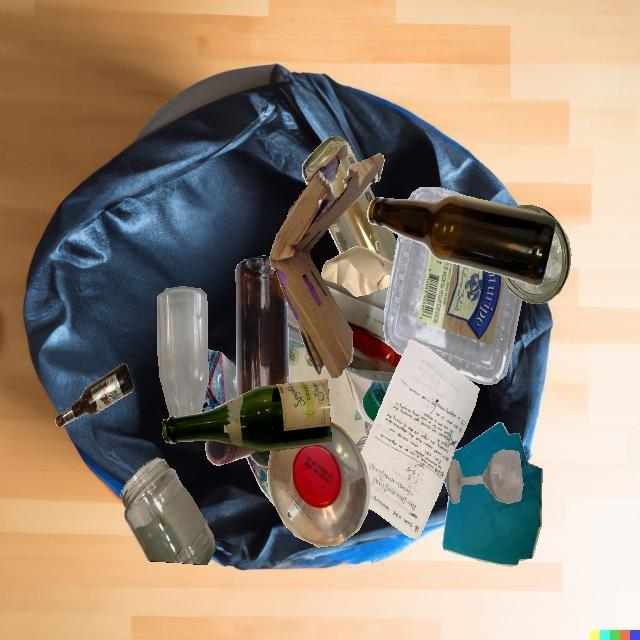cardboard: (269, 145, 384, 378), (288, 338, 373, 454)
glass: (367, 195, 556, 286), (162, 378, 332, 451), (120, 458, 215, 565), (236, 255, 289, 397), (501, 204, 571, 304), (158, 286, 208, 417), (328, 185, 397, 263), (55, 363, 134, 427), (446, 449, 523, 503), (302, 136, 358, 197), (205, 440, 270, 467)
paper: (360, 339, 479, 539), (442, 422, 542, 566), (322, 279, 402, 382), (321, 246, 393, 297), (344, 369, 374, 424)
plastic: (384, 235, 522, 385), (267, 422, 371, 547), (201, 349, 237, 412), (362, 380, 390, 422), (510, 357, 511, 359)
